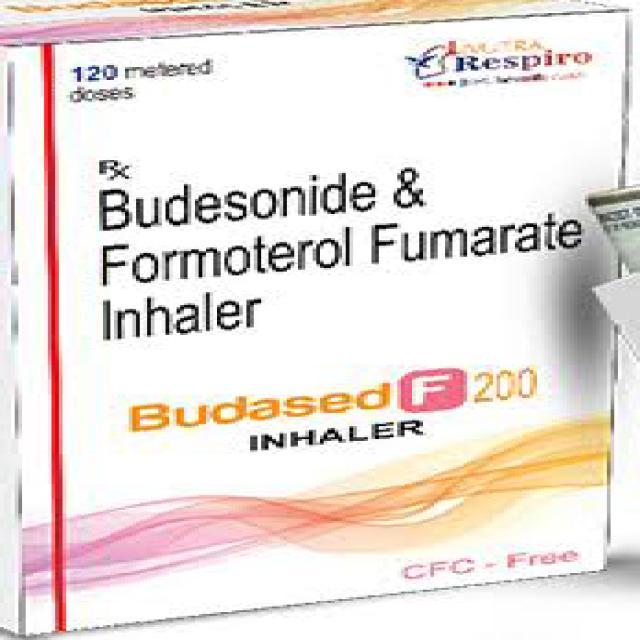drug-name: (126, 357, 542, 438)
